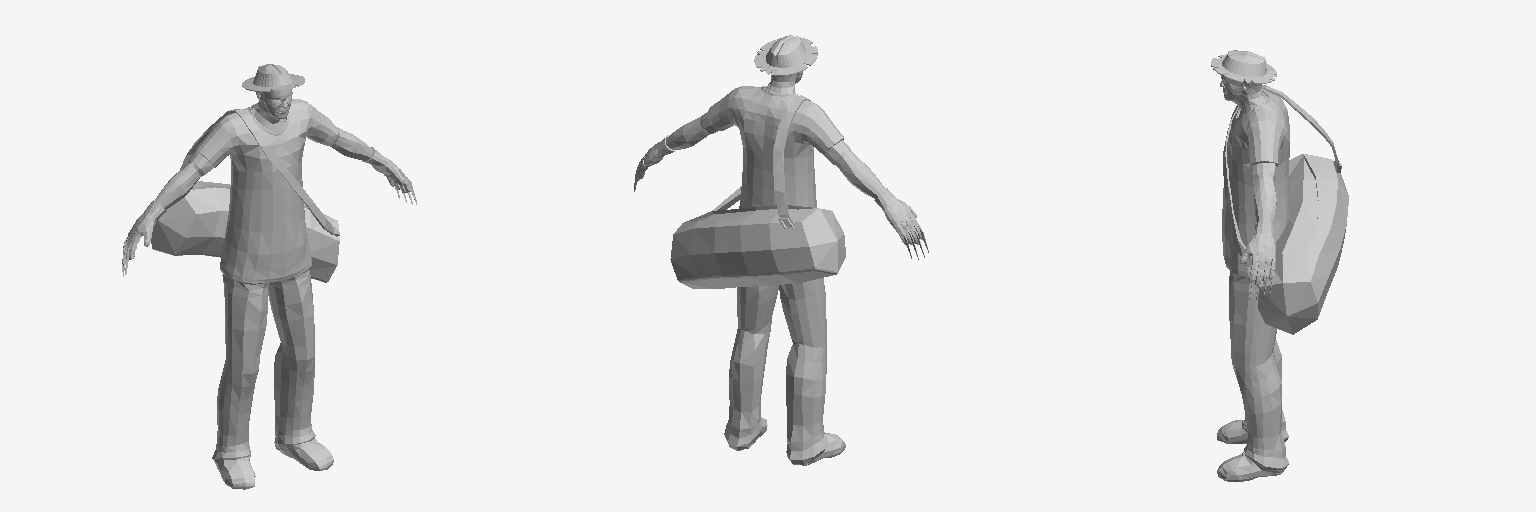
Rendered from freddie.obj.
The picture shows the model from 3 angles: view 1: azimuth 30°, elevation 25°; view 2: azimuth 150°, elevation 25°; view 3: azimuth 270°, elevation 25°; orthographic projection.
Parts seen in each view (by area): view 1: Plane.001_Plane.004; view 2: Plane.001_Plane.004; view 3: Plane.001_Plane.004.
Boxes of the visible parts, box(x1,y1,x2,y2) form: Plane.001_Plane.004: box(122, 64, 416, 489); Plane.001_Plane.004: box(634, 35, 928, 465); Plane.001_Plane.004: box(1211, 50, 1348, 481).
Bounding box in the file's own units: 18.62 × 24.76 × 7.66.